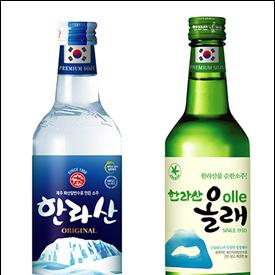soju: (30, 19, 125, 275), (164, 15, 253, 275)
